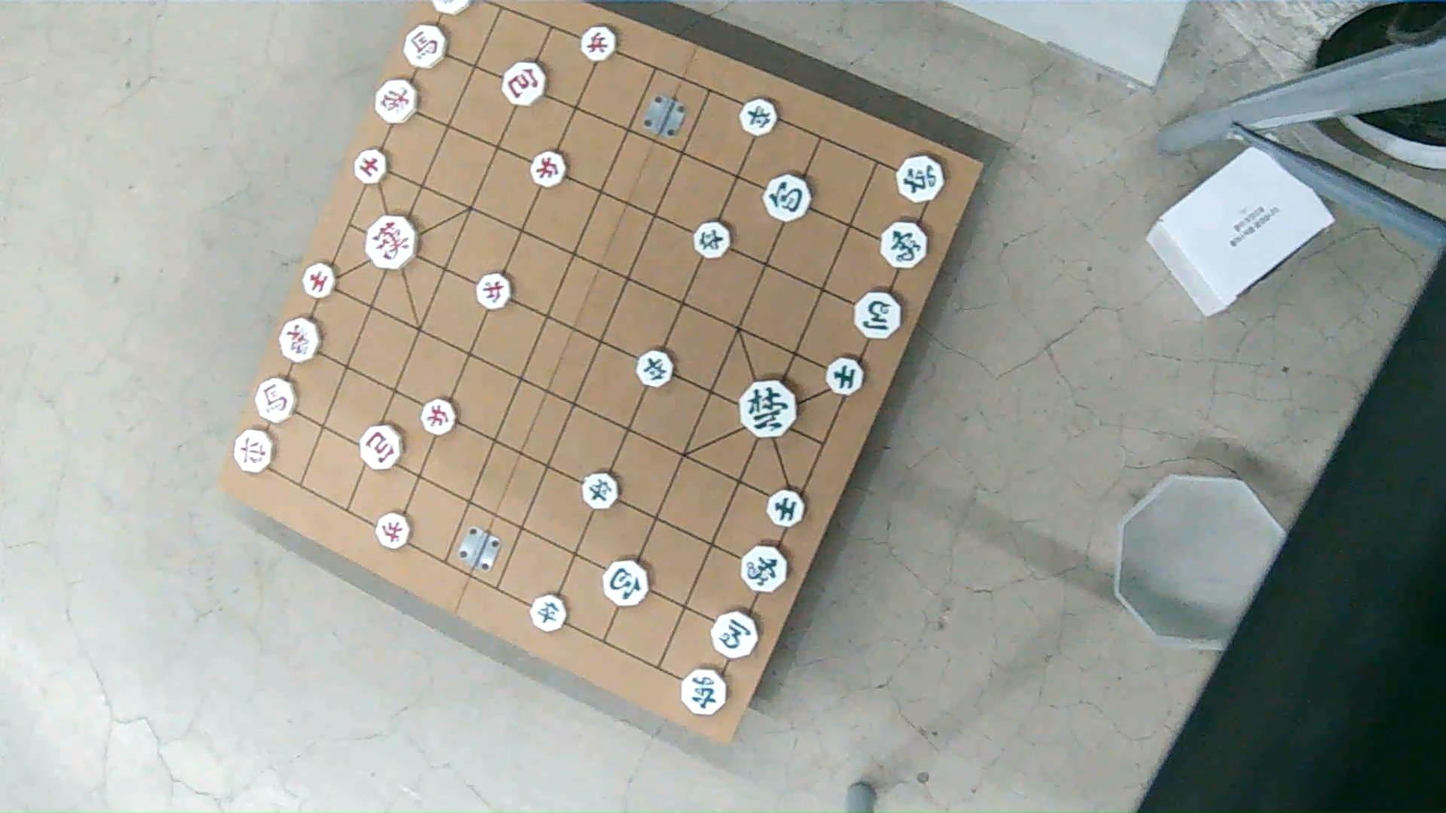cha_green: (676, 669, 725, 717), (897, 155, 944, 204)
cha_red: (232, 431, 273, 473)
jol_green: (693, 223, 731, 260), (584, 473, 622, 510), (739, 99, 776, 137), (529, 595, 567, 632), (636, 351, 673, 388)
jol_red: (371, 514, 409, 550), (419, 399, 455, 436), (533, 152, 569, 188), (477, 273, 513, 309), (579, 28, 615, 63)
ma_green: (710, 609, 758, 657), (854, 292, 901, 340)
ma_red: (401, 26, 445, 70), (253, 378, 296, 423)
po_green: (765, 176, 812, 224), (602, 561, 650, 607)
po_red: (501, 61, 546, 105), (358, 425, 402, 470)
sa_green: (825, 356, 862, 395), (768, 492, 806, 529)
sa_red: (350, 152, 385, 187), (304, 263, 339, 297)
sang_green: (743, 544, 791, 592), (880, 222, 928, 269)
sang_red: (376, 81, 419, 125), (282, 318, 322, 364)
wang_green: (740, 380, 796, 439)
wang_red: (369, 215, 420, 268)
